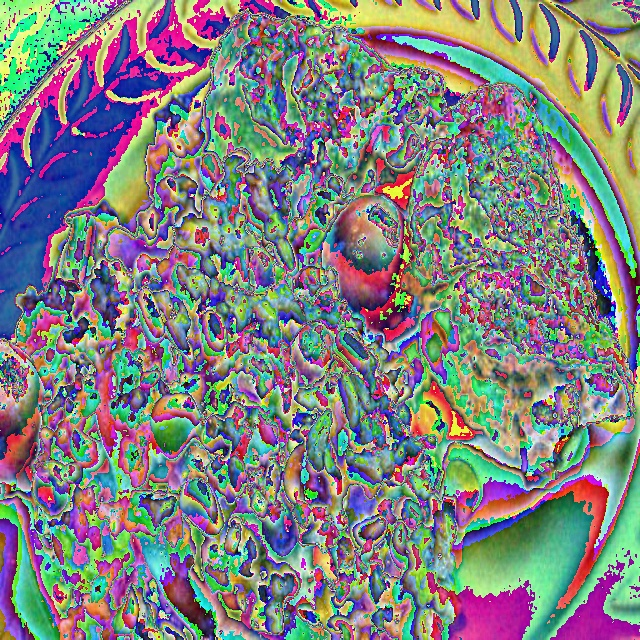background: (0, 12, 638, 639)
